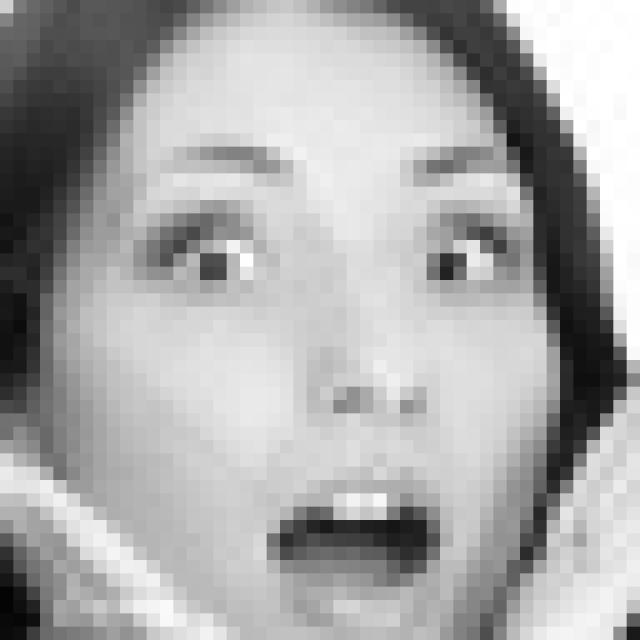surprise: (111, 133, 530, 640)
